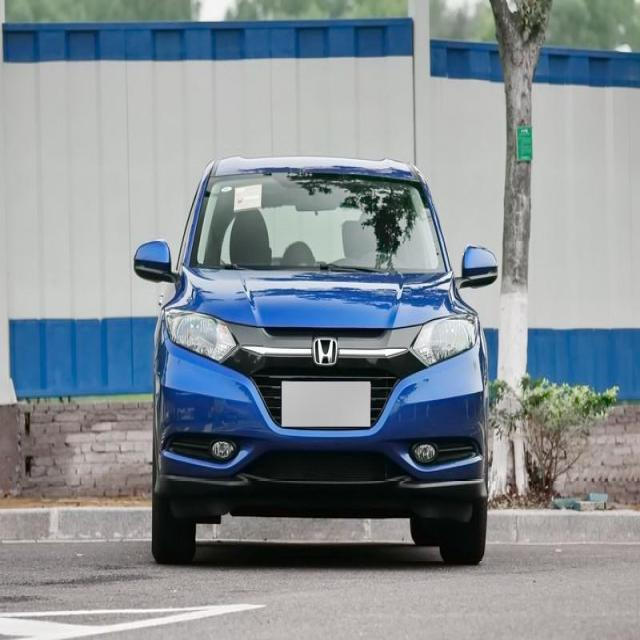front_bumper: (155, 346, 490, 504)
front_glass: (187, 175, 443, 268)
front_left_side_light: (410, 308, 480, 369)
front_left_side_mirror: (454, 245, 501, 288)
front_right_side_light: (162, 304, 240, 365)
front_right_side_mirror: (132, 235, 178, 283)
